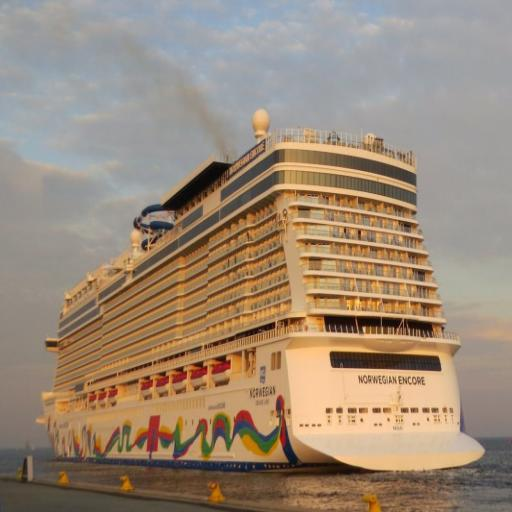cruises: (35, 107, 490, 488)
